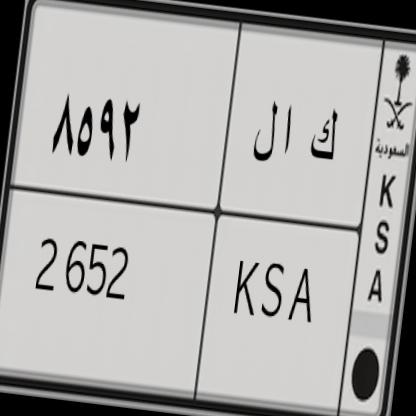english: (0, 170, 370, 416)
